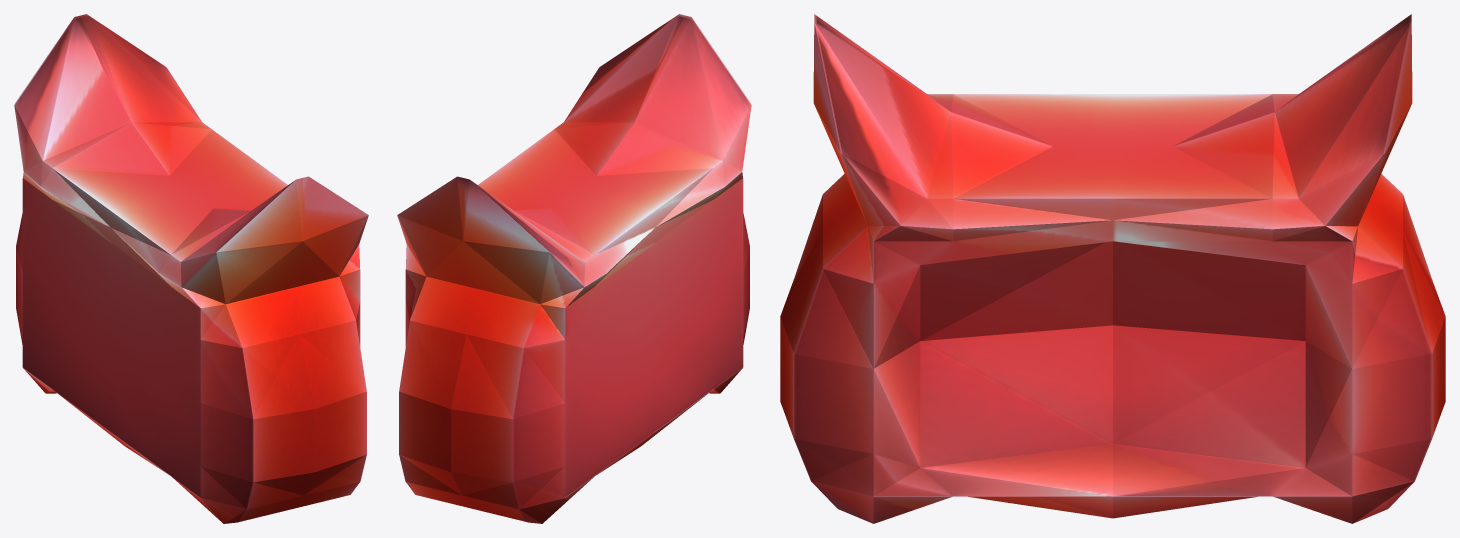
The model's file is modeloradiogato.dae.
3 renders of one model, left to right at view 1: azimuth 30°, elevation 25°; view 2: azimuth 150°, elevation 25°; view 3: azimuth 270°, elevation 25°, orthographic. The views are drawn at different scales.
Visible parts, largest first — view 1: Cube; view 2: Cube; view 3: Cube.
Part boxes in pixels (bbox=[...]): Cube: bbox=[14, 14, 368, 523]; Cube: bbox=[397, 14, 751, 523]; Cube: bbox=[780, 14, 1445, 523].
Bounding box in the file's own units: 1.53 × 3.54 × 2.77.
1 material, 1 textured.
